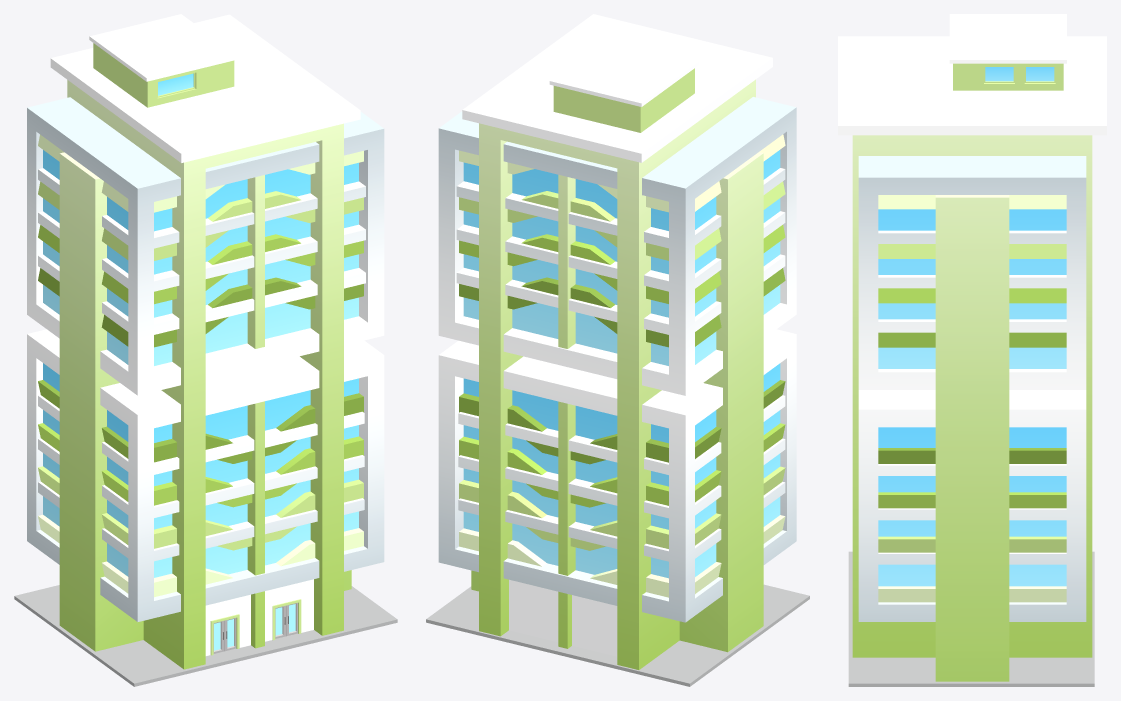
File: Building_Living_60.glb
3 renders of one model, left to right at view 1: azimuth 30°, elevation 25°; view 2: azimuth 150°, elevation 25°; view 3: azimuth 270°, elevation 25°, orthographic. The views are drawn at different scales.
Parts seen in each view (by area): view 1: Building_Living_60; view 2: Building_Living_60; view 3: Building_Living_60.
Part boxes in pixels (x1,y1,x2,y2): Building_Living_60: (14, 14, 397, 686); Building_Living_60: (426, 14, 809, 686); Building_Living_60: (838, 14, 1106, 686).
Bounding box in the file's own units: 18.71 × 37.86 × 16.12.
Materials: 1 (1 with a texture image).
